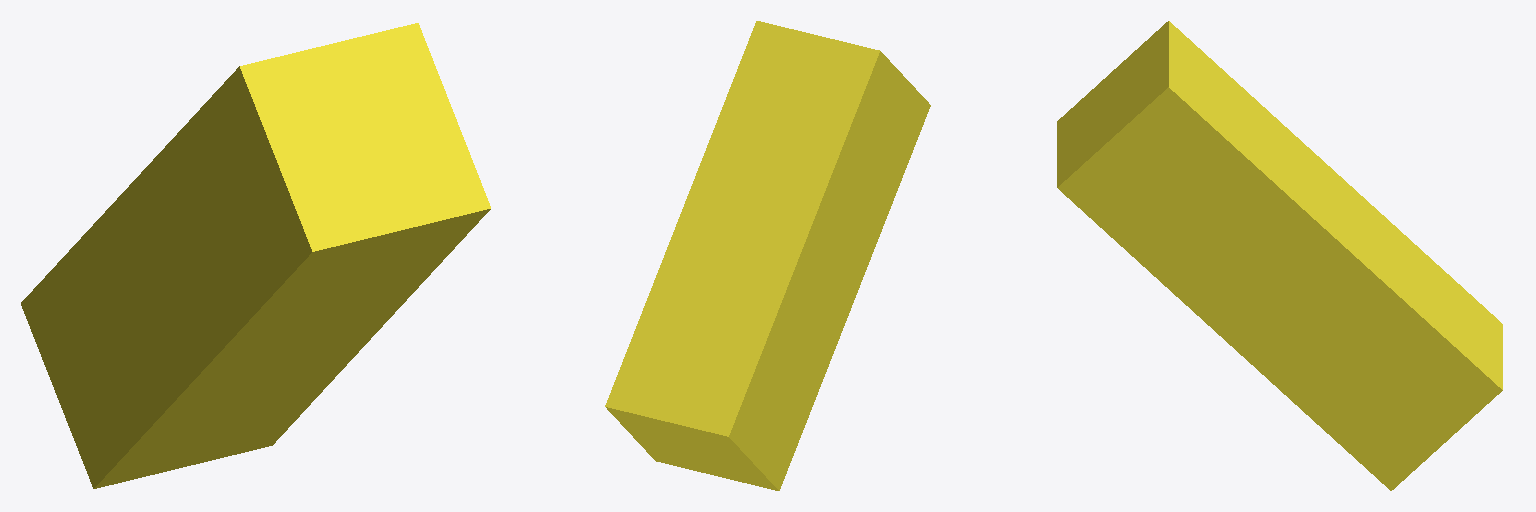
URDF robot description (panda):
<?xml version="1.0" ?>
<robot name="panda" version="1.0">
   <link name="panda_link0">
      <inertial>
         <origin xyz="0.0 0.0 0.0" rpy="0.0 0.0 0.0"/>
         <mass value="2.8142028896"/>
         <inertia ixx="0.0129886979" ixy="0.0" ixz="0.0" iyy="0.0165355284" iyz="0.0" izz="0.0203311636"/>
      </inertial>
      <visual>
         <geometry>
            <mesh filename="package://franka_description/meshes/visual/link0.dae"/>
         </geometry>
      </visual>
      <collision>
         <geometry>
            <mesh filename="package://franka_description/meshes/collision/link0.stl"/>
         </geometry>
      </collision>
   </link>
   <link name="panda_link1">
      <inertial>
         <origin xyz="0.0 0.0 0.0" rpy="0.0 0.0 0.0"/>
         <mass value="2.3599995791"/>
         <inertia ixx="0.0186863903" ixy="0.0" ixz="0.0" iyy="0.0143789874" iyz="0.0" izz="0.00906812"/>
      </inertial>
      <visual>
         <geometry>
            <mesh filename="package://franka_description/meshes/visual/link1.dae"/>
         </geometry>
      </visual>
      <collision>
         <geometry>
            <mesh filename="package://franka_description/meshes/collision/link1.stl"/>
         </geometry>
      </collision>
   </link>
   <joint name="panda_joint1" type="revolute">
      <origin xyz="0.0 0.0 0.333" rpy="0.0 0.0 0.0"/>
      <axis xyz="0.0 0.0 1.0"/>
      <parent link="panda_link0"/>
      <child link="panda_link1"/>
      <limit effort="87.0" lower="-2.8973" upper="2.8973" velocity="2.175"/>
      <safety_controller k_velocity="40.0" k_position="100.0" soft_lower_limit="-2.8973" soft_upper_limit="2.8973"/>
   </joint>
   <link name="panda_link2">
      <inertial>
         <origin xyz="0.0 0.0 0.0" rpy="0.0 0.0 0.0"/>
         <mass value="2.379518833"/>
         <inertia ixx="0.0190388734" ixy="0.0" ixz="0.0" iyy="0.0091429124" iyz="0.0" izz="0.014697537"/>
      </inertial>
      <visual>
         <geometry>
            <mesh filename="package://franka_description/meshes/visual/link2.dae"/>
         </geometry>
      </visual>
      <collision>
         <geometry>
            <mesh filename="package://franka_description/meshes/collision/link2.stl"/>
         </geometry>
      </collision>
   </link>
   <joint name="panda_joint2" type="revolute">
      <origin xyz="0.0 0.0 0.0" rpy="-1.57079632679 0.0 0.0"/>
      <axis xyz="0.0 0.0 1.0"/>
      <parent link="panda_link1"/>
      <child link="panda_link2"/>
      <limit effort="87.0" lower="-1.7628" upper="1.7628" velocity="2.175"/>
      <safety_controller k_velocity="40.0" k_position="100.0" soft_lower_limit="-1.7628" soft_upper_limit="1.7628"/>
   </joint>
   <link name="panda_link3">
      <inertial>
         <origin xyz="0.0 0.0 0.0" rpy="0.0 0.0 0.0"/>
         <mass value="2.6498823337"/>
         <inertia ixx="0.0129300178" ixy="0.0" ixz="0.0" iyy="0.0150242121" iyz="0.0" izz="0.0142734598"/>
      </inertial>
      <visual>
         <geometry>
            <mesh filename="package://franka_description/meshes/visual/link3.dae"/>
         </geometry>
      </visual>
      <collision>
         <geometry>
            <mesh filename="package://franka_description/meshes/collision/link3.stl"/>
         </geometry>
      </collision>
   </link>
   <joint name="panda_joint3" type="revolute">
      <origin xyz="0.0 -0.316 0.0" rpy="1.57079632679 0.0 0.0"/>
      <axis xyz="0.0 0.0 1.0"/>
      <parent link="panda_link2"/>
      <child link="panda_link3"/>
      <limit effort="87.0" lower="-2.8973" upper="2.8973" velocity="2.175"/>
      <safety_controller k_velocity="40.0" k_position="100.0" soft_lower_limit="-2.8973" soft_upper_limit="2.8973"/>
   </joint>
   <link name="panda_link4">
      <inertial>
         <origin xyz="0.0 0.0 0.0" rpy="0.0 0.0 0.0"/>
         <mass value="2.6948018744"/>
         <inertia ixx="0.0133874611" ixy="0.0" ixz="0.0" iyy="0.014514325" iyz="0.0" izz="0.0155175551"/>
      </inertial>
      <visual>
         <geometry>
            <mesh filename="package://franka_description/meshes/visual/link4.dae"/>
         </geometry>
      </visual>
      <collision>
         <geometry>
            <mesh filename="package://franka_description/meshes/collision/link4.stl"/>
         </geometry>
      </collision>
   </link>
   <joint name="panda_joint4" type="revolute">
      <origin xyz="0.0825 0.0 0.0" rpy="1.57079632679 0.0 0.0"/>
      <axis xyz="0.0 0.0 1.0"/>
      <parent link="panda_link3"/>
      <child link="panda_link4"/>
      <limit effort="87.0" lower="-3.0718" upper="-0.0698" velocity="2.175"/>
      <safety_controller k_velocity="40.0" k_position="100.0" soft_lower_limit="-3.0718" soft_upper_limit="-0.0698"/>
   </joint>
   <link name="panda_link5">
      <inertial>
         <origin xyz="0.0 0.0 0.0" rpy="0.0 0.0 0.0"/>
         <mass value="2.9812816864"/>
         <inertia ixx="0.0325565705" ixy="0.0" ixz="0.0" iyy="0.0270660472" iyz="0.0" izz="0.0115023375"/>
      </inertial>
      <visual>
         <geometry>
            <mesh filename="package://franka_description/meshes/visual/link5.dae"/>
         </geometry>
      </visual>
      <collision>
         <geometry>
            <mesh filename="package://franka_description/meshes/collision/link5.stl"/>
         </geometry>
      </collision>
   </link>
   <joint name="panda_joint5" type="revolute">
      <origin xyz="-0.0825 0.384 0.0" rpy="-1.57079632679 0.0 0.0"/>
      <axis xyz="0.0 0.0 1.0"/>
      <parent link="panda_link4"/>
      <child link="panda_link5"/>
      <limit effort="12.0" lower="-2.8973" upper="2.8973" velocity="2.61"/>
      <safety_controller k_velocity="40.0" k_position="100.0" soft_lower_limit="-2.8973" soft_upper_limit="2.8973"/>
   </joint>
   <link name="panda_link6">
      <inertial>
         <origin xyz="0.0 0.0 0.0" rpy="0.0 0.0 0.0"/>
         <mass value="1.1285806309"/>
         <inertia ixx="0.0026052565" ixy="0.0" ixz="0.0" iyy="0.0039897229" iyz="0.0" izz="0.0047048591"/>
      </inertial>
      <visual>
         <geometry>
            <mesh filename="package://franka_description/meshes/visual/link6.dae"/>
         </geometry>
      </visual>
      <collision>
         <geometry>
            <mesh filename="package://franka_description/meshes/collision/link6.stl"/>
         </geometry>
      </collision>
   </link>
   <joint name="panda_joint6" type="revolute">
      <origin xyz="0.0 0.0 0.0" rpy="1.57079632679 0.0 0.0"/>
      <axis xyz="0.0 0.0 1.0"/>
      <parent link="panda_link5"/>
      <child link="panda_link6"/>
      <limit effort="12.0" lower="-0.0175" upper="3.7525" velocity="2.61"/>
      <safety_controller k_velocity="40.0" k_position="100.0" soft_lower_limit="-0.0175" soft_upper_limit="3.7525"/>
   </joint>
   <link name="panda_link7">
      <inertial>
         <origin xyz="0.0 0.0 0.0" rpy="0.0 0.0 0.0"/>
         <mass value="0.4052912465"/>
         <inertia ixx="0.0006316592" ixy="0.0" ixz="0.0" iyy="0.0006319639" iyz="0.0" izz="0.0010607721"/>
      </inertial>
      <visual>
         <geometry>
            <mesh filename="package://franka_description/meshes/visual/link7.dae"/>
         </geometry>
      </visual>
      <collision>
         <geometry>
            <mesh filename="package://franka_description/meshes/collision/link7.stl"/>
         </geometry>
      </collision>
   </link>
   <joint name="panda_joint7" type="revolute">
      <origin xyz="0.088 0.0 0.0" rpy="1.57079632679 0.0 0.0"/>
      <axis xyz="0.0 0.0 1.0"/>
      <parent link="panda_link6"/>
      <child link="panda_link7"/>
      <limit effort="12.0" lower="-2.8973" upper="2.8973" velocity="2.61"/>
      <safety_controller k_velocity="40.0" k_position="100.0" soft_lower_limit="-2.8973" soft_upper_limit="2.8973"/>
   </joint>
   <link name="panda_link8"/>
   <joint name="panda_joint8" type="fixed">
      <origin xyz="0.0 0.0 0.107" rpy="0.0 0.0 0.0"/>
      <axis xyz="0.0 0.0 0.0"/>
      <parent link="panda_link7"/>
      <child link="panda_link8"/>
   </joint>
   <joint name="panda_hand_joint" type="fixed">
      <origin xyz="0.0 0.0 0.0" rpy="0.0 0.0 -0.785398163397"/>
      <parent link="panda_link8"/>
      <child link="panda_hand"/>
   </joint>
   <link name="panda_hand">
      <inertial>
         <origin xyz="0.0 0.0 0.0" rpy="0.0 0.0 0.0"/>
         <mass value="0.5583304799"/>
         <inertia ixx="0.0023394448" ixy="0.0" ixz="0.0" iyy="0.0005782786" iyz="0.0" izz="0.0021310296"/>
      </inertial>
      <visual>
         <geometry>
            <mesh filename="package://franka_description/meshes/visual/hand.dae"/>
         </geometry>
      </visual>
      <collision>
         <geometry>
            <mesh filename="package://franka_description/meshes/collision/hand.stl"/>
         </geometry>
      </collision>
   </link>
   <joint name="ee_fixed_joint" type="fixed">
      <origin xyz="0.0 0.0 0.1" rpy="0.0 0.0 -1.57"/>
      <parent link="panda_hand"/>
      <child link="ee_link"/>
   </joint>
   <link name="ee_link">
      <collision>
         <origin xyz="0.0 0.0 0.0" rpy="0.0 0.0 0.0"/>
         <geometry>
            <box size="0.01 0.01 0.01"/>
         </geometry>
      </collision>
   </link>
   <joint name="grasped_object_fixed_joint" type="fixed">
      <origin xyz="0.0 0.0 0.05" rpy="1.5707965 0.0 0.0"/>
      <parent link="ee_link"/>
      <child link="grasped_object"/>
   </joint>
   <link name="grasped_object">
      <origin xyz="0.0 0.0 0.0" rpy="0.0 0.0 0.0"/>
      <visual>
         <geometry>
            <box size="0.05 0.05 0.15"/>
         </geometry>
      </visual>
      <collision>
         <geometry>
            <box size="0.05 0.05 0.15"/>
         </geometry>
      </collision>
   </link>
</robot>

--- Facts derived from the render (not from the file) ---
The picture shows the robot from 3 angles, left to right: view 1: azimuth 30°, elevation 25°; view 2: azimuth 150°, elevation 25°; view 3: azimuth 270°, elevation 25°; orthographic projection.
Robot: panda — 12 links, 11 joints (7 revolute, 4 fixed); root link panda_link0; default pose: joints at zero except 1 at the middle of their limits (panda_joint4 = -1.57).
Links seen in each view (by area): view 1: grasped_object; view 2: grasped_object; view 3: grasped_object.
Boxes of the visible links, x1,y1,x2,y2 form: grasped_object: (21, 23, 490, 488); grasped_object: (605, 21, 930, 490); grasped_object: (1057, 21, 1502, 490).
Size in the robot's own frame: 0.05 by 0.1414 by 0.1415 metres.
0 mesh visuals loaded from 9 distinct referenced files (none loaded); not drawn: 9 (reference not matched to a file when rendering).